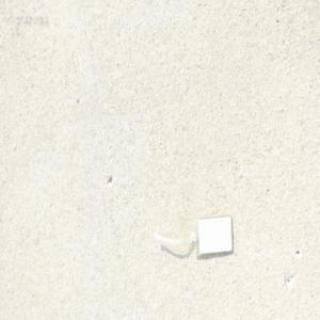LuggageTagtrack_idkeyframe: (153, 212, 233, 257)
